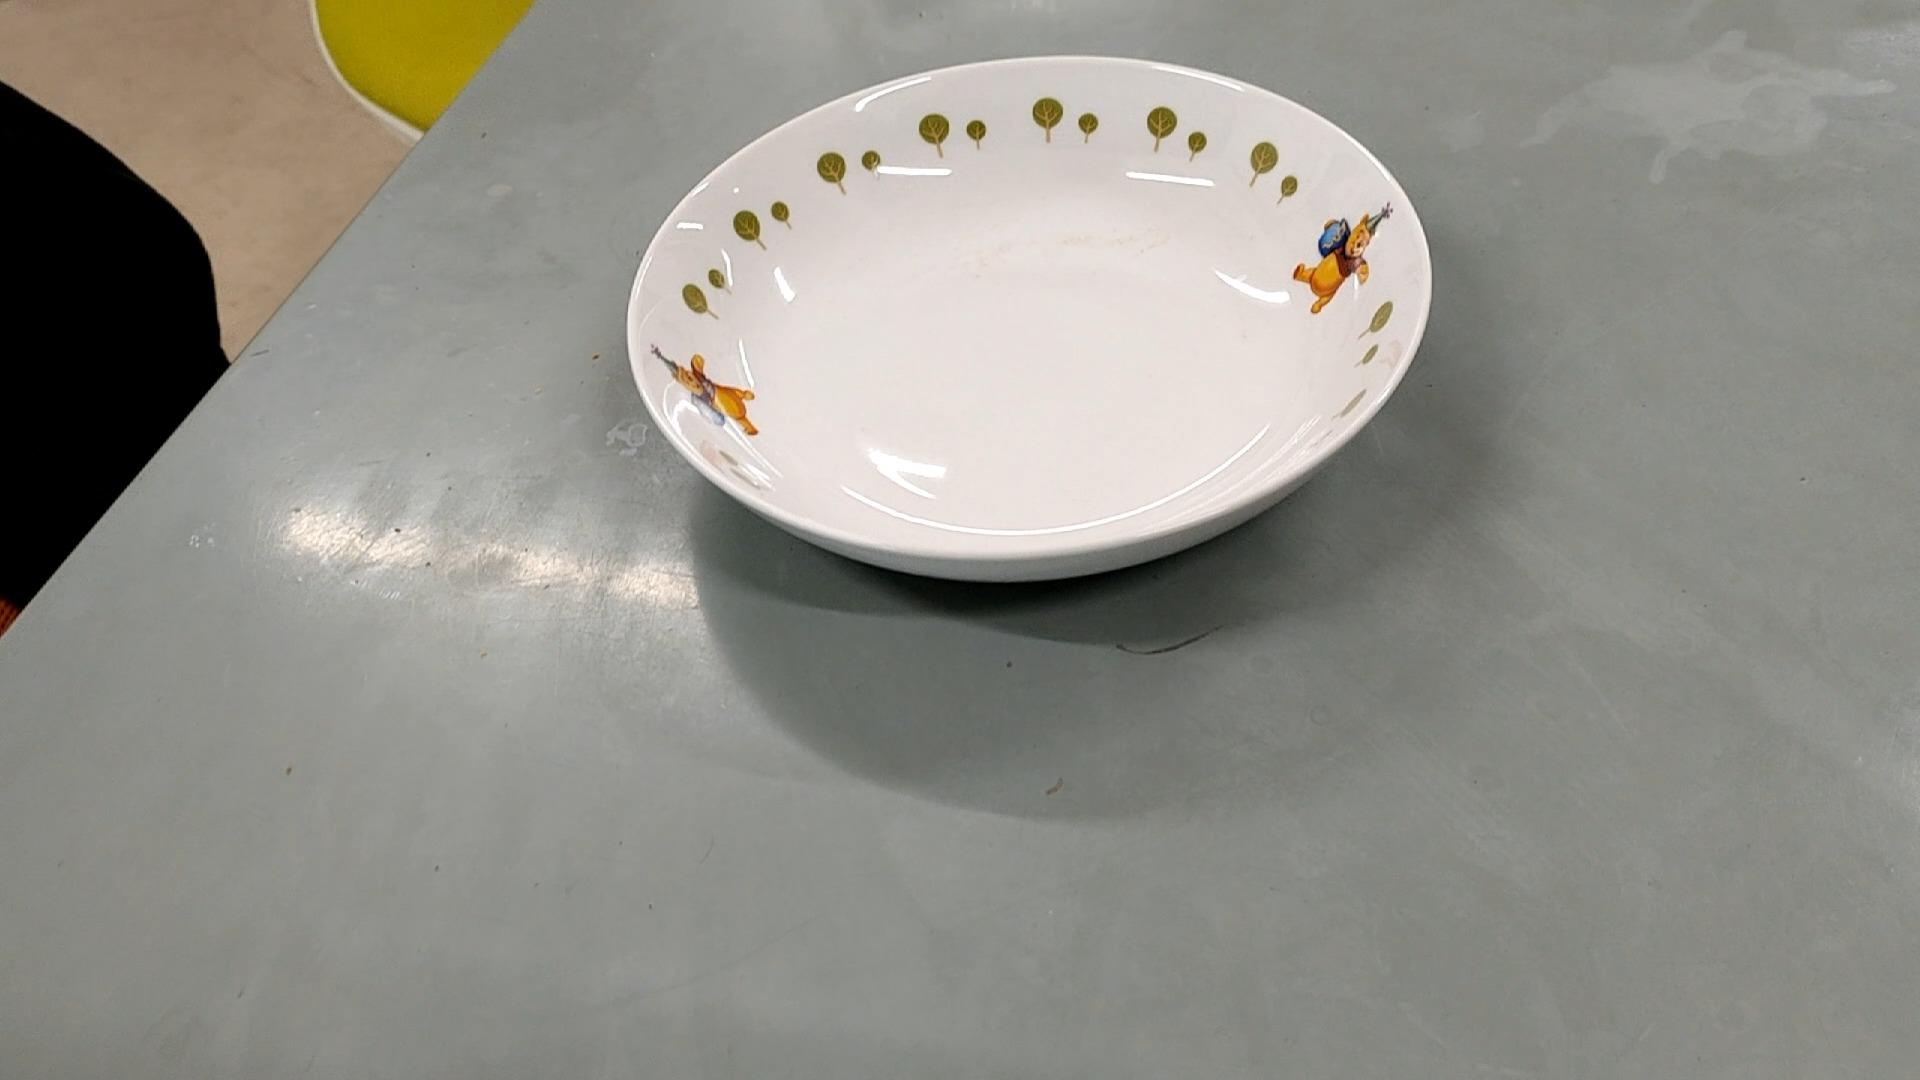plate: (630, 55, 1431, 578)
